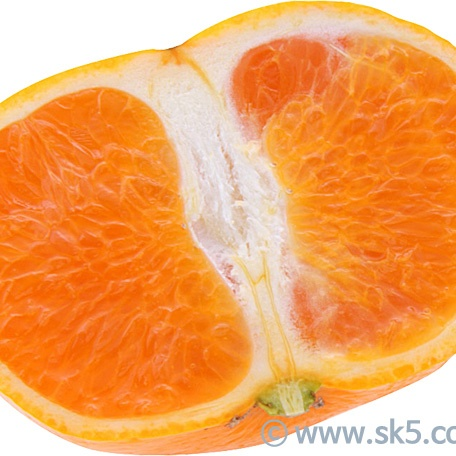mandarin: (3, 1, 456, 454)
